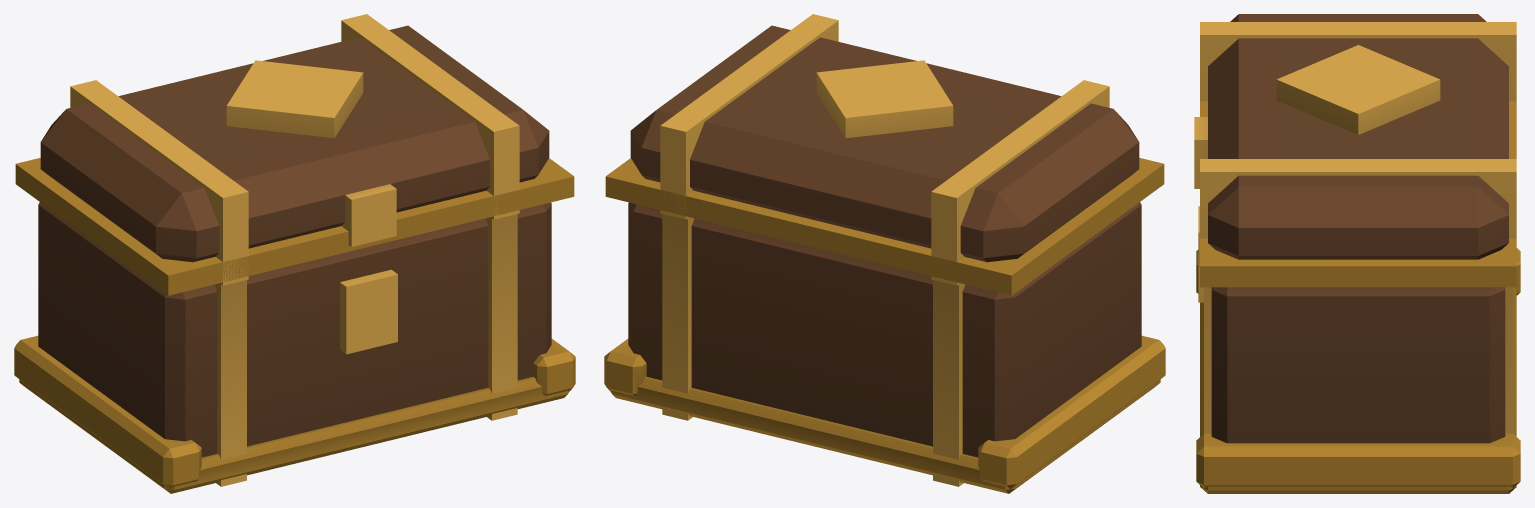
File: ancient_chest.glb
The picture shows the model from 3 angles, left to right: view 1: azimuth 30°, elevation 25°; view 2: azimuth 150°, elevation 25°; view 3: azimuth 270°, elevation 25°; orthographic projection. The views are drawn at different scales.
Visible parts, largest first — view 1: ancient_chest, ancient_chest.lid; view 2: ancient_chest, ancient_chest.lid; view 3: ancient_chest.lid, ancient_chest.
Boxes of the visible parts, x1,y1,x2,y2 form: ancient_chest: [14, 202, 575, 493]; ancient_chest.lid: [15, 14, 574, 295]; ancient_chest: [604, 202, 1165, 493]; ancient_chest.lid: [605, 14, 1164, 295]; ancient_chest.lid: [1194, 14, 1516, 287]; ancient_chest: [1196, 206, 1520, 493].
Size of the model in its own units: 1.28 by 0.91 by 0.845.
